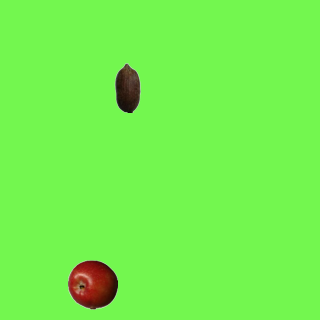Apple Braeburn: (67, 259, 117, 309)
Nut Pecan: (102, 62, 152, 112)
